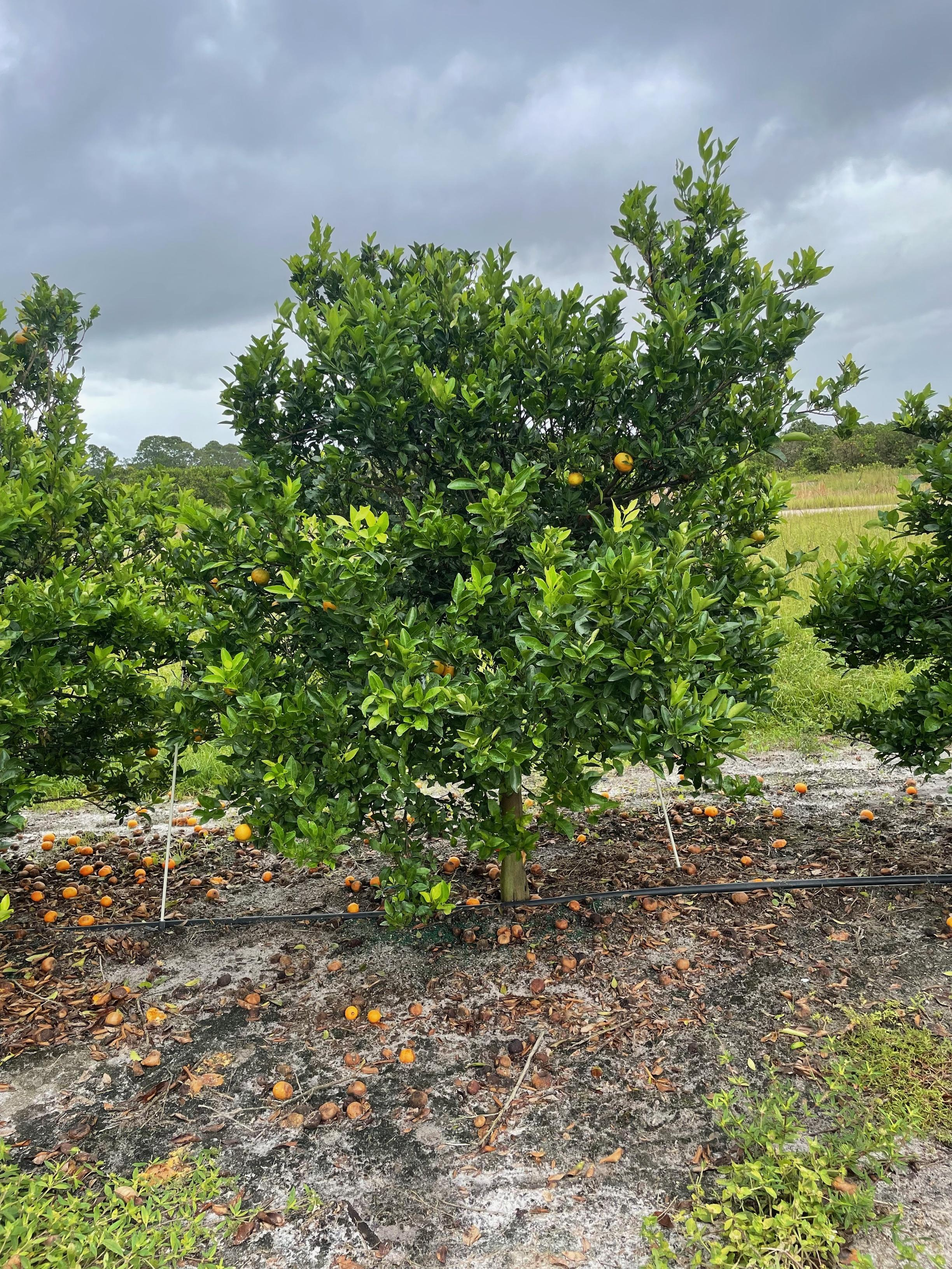fruit_on_ground: (611, 449, 637, 475), (249, 565, 273, 587), (425, 655, 447, 678), (437, 660, 459, 681), (202, 575, 224, 595), (565, 468, 585, 488), (233, 822, 253, 842), (189, 724, 208, 743), (11, 331, 32, 348), (19, 325, 39, 342), (749, 527, 766, 543), (269, 600, 285, 615), (144, 744, 160, 759), (85, 781, 100, 793)
fruit_on_tree: (317, 1099, 342, 1122), (271, 1078, 294, 1101), (143, 1006, 168, 1027), (103, 1007, 125, 1027), (344, 1099, 365, 1119), (397, 1046, 416, 1066), (90, 989, 112, 1006), (346, 1080, 368, 1097), (484, 861, 503, 880), (495, 924, 513, 944), (40, 955, 58, 973), (729, 890, 750, 905), (528, 977, 546, 994), (465, 1077, 483, 1094), (343, 1004, 361, 1021), (365, 1006, 383, 1023), (560, 954, 578, 970), (242, 991, 261, 1006), (408, 1000, 425, 1016), (65, 833, 83, 848), (510, 921, 525, 939), (674, 956, 692, 971), (77, 912, 95, 927), (61, 884, 79, 899), (521, 796, 537, 812), (460, 929, 477, 944), (472, 1113, 489, 1128), (858, 807, 875, 822), (640, 897, 658, 911), (349, 879, 365, 894), (327, 957, 343, 972), (682, 861, 698, 876), (98, 865, 114, 880), (204, 886, 220, 901), (793, 779, 808, 794), (367, 873, 383, 887), (79, 862, 95, 876), (42, 909, 58, 923), (54, 857, 70, 871), (208, 871, 225, 884), (528, 862, 545, 875), (771, 836, 788, 849), (79, 844, 96, 857), (441, 860, 456, 874), (132, 865, 147, 879), (446, 855, 461, 869), (99, 893, 114, 907), (554, 916, 570, 929), (464, 894, 480, 907), (133, 871, 147, 885), (739, 853, 753, 867), (343, 874, 357, 888), (567, 898, 582, 911), (42, 830, 57, 843), (704, 803, 719, 816), (30, 889, 45, 902), (670, 812, 684, 825), (346, 900, 360, 913), (163, 857, 177, 870), (942, 912, 952, 930), (192, 825, 207, 837), (31, 877, 47, 888), (575, 831, 588, 844), (690, 803, 703, 816), (142, 854, 155, 867), (261, 869, 274, 882), (134, 805, 148, 817), (185, 814, 199, 826), (905, 785, 919, 797), (41, 839, 55, 851), (771, 805, 785, 817), (174, 816, 189, 827), (404, 813, 417, 825), (126, 818, 138, 831), (189, 876, 203, 886), (180, 840, 192, 851), (107, 874, 118, 886), (755, 774, 766, 785), (678, 771, 689, 782), (73, 844, 84, 855), (150, 832, 161, 842), (600, 789, 611, 799)
